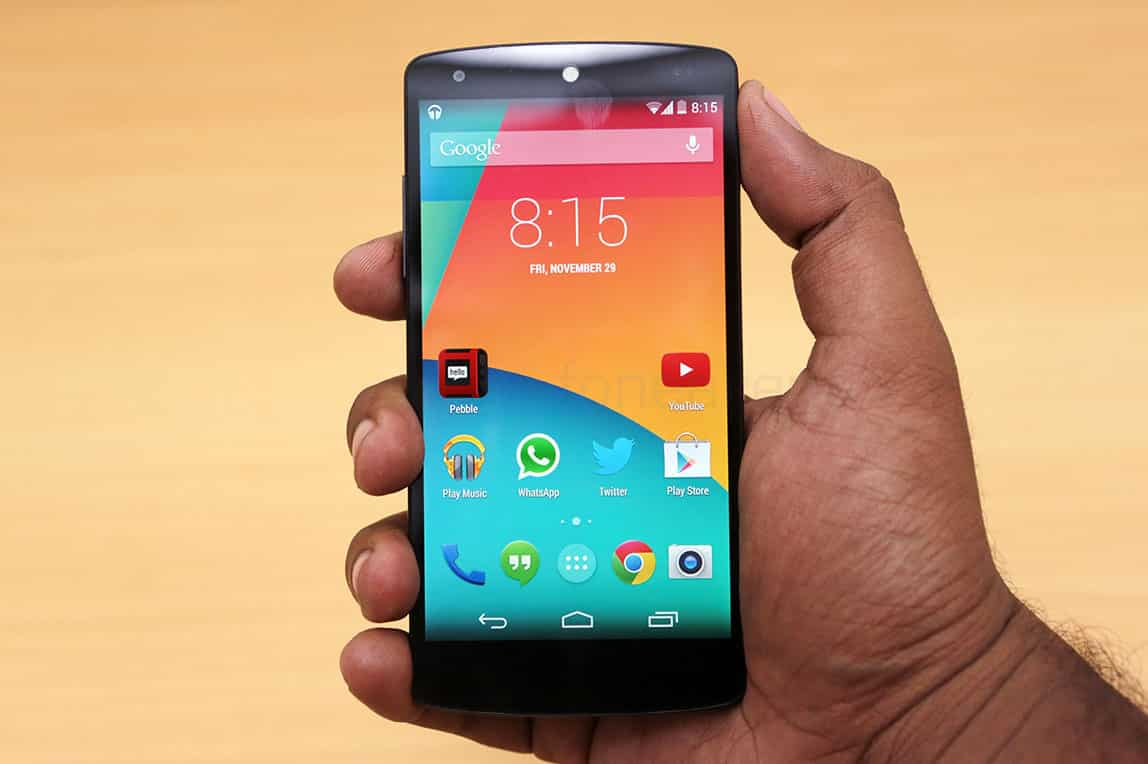smartphone: (402, 41, 746, 716)
